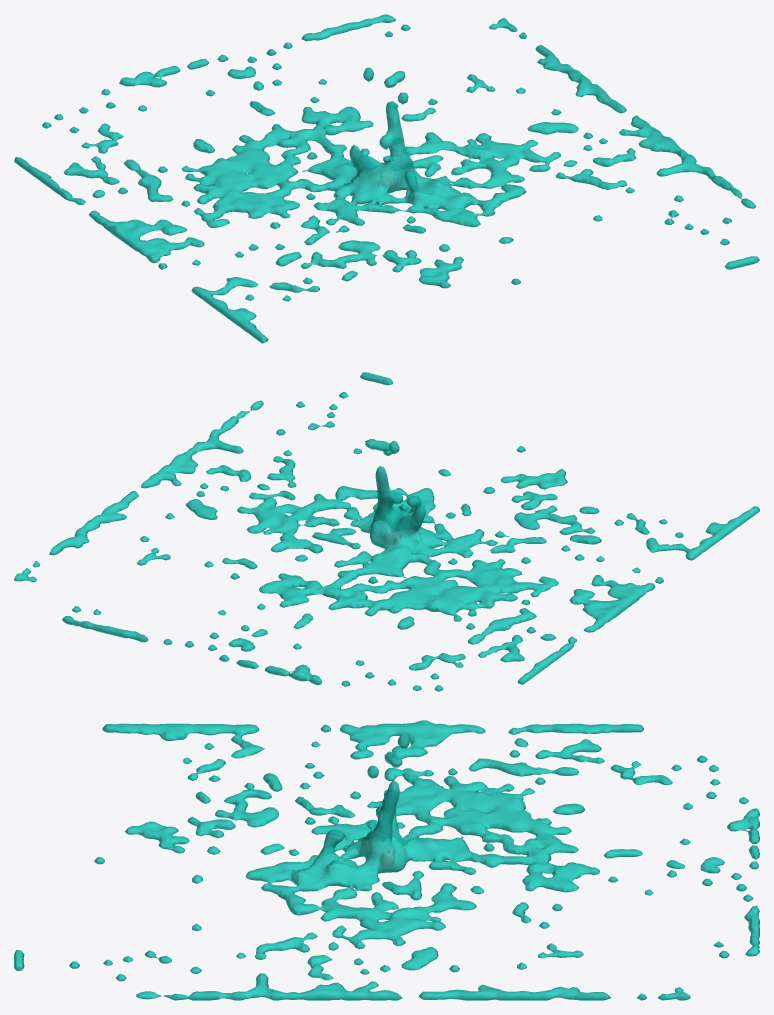
3 views of the same model, one above another, from view 1: azimuth 30°, elevation 25°; view 2: azimuth 150°, elevation 25°; view 3: azimuth 270°, elevation 25° (orthographic). The views are drawn at different scales.
Parts seen in each view (by area): view 1: Liquid_Domain; view 2: Liquid_Domain; view 3: Liquid_Domain.
Boxes of the visible parts, x1,y1,x2,y2 form: Liquid_Domain: (14,14,759,343); Liquid_Domain: (14,372,759,691); Liquid_Domain: (14,720,759,1000).
Bounding box in the file's own units: 12.44 × 2.69 × 14.41.
